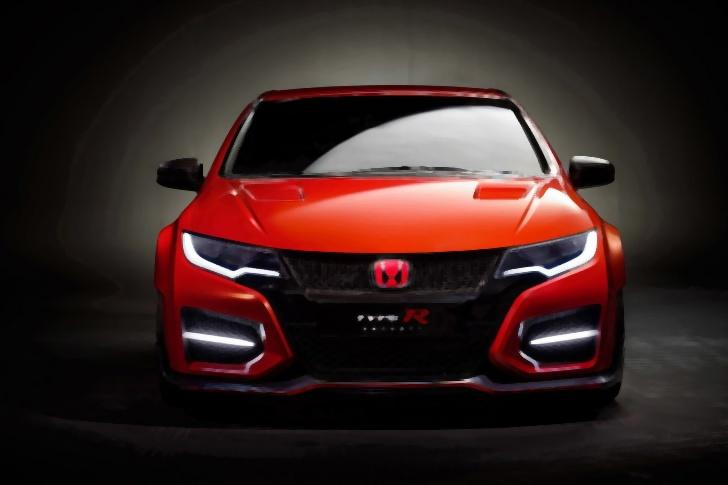Car hood: (170, 178, 602, 254)
Front bumper: (145, 253, 628, 406)
Headlight - -L-: (487, 228, 601, 304)
Headlight - -R-: (175, 225, 289, 282)
Side mirror - -L-: (559, 150, 617, 194)
Side mirror - -R-: (154, 158, 210, 198)
